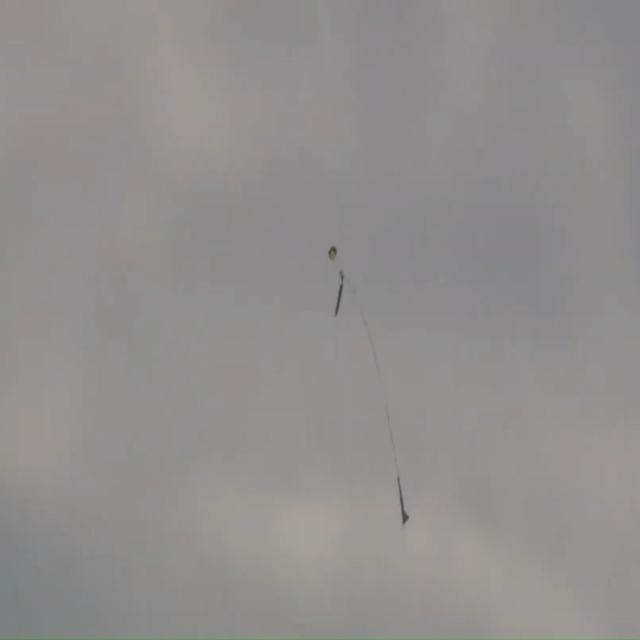Rocket: (398, 476, 409, 524)
